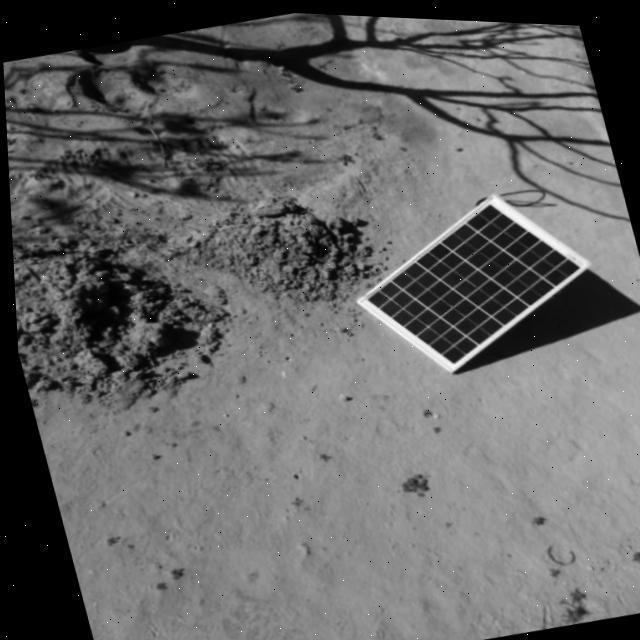Normal Solar Panel: (331, 166, 610, 388)
